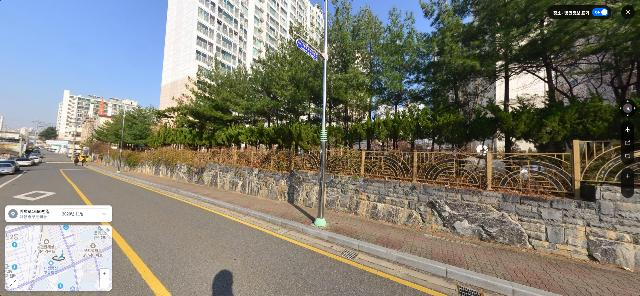other: (477, 0, 640, 172), (416, 0, 506, 154), (307, 0, 394, 154), (363, 0, 436, 160), (154, 54, 264, 155), (244, 33, 323, 154), (121, 105, 160, 152), (93, 116, 127, 152)
